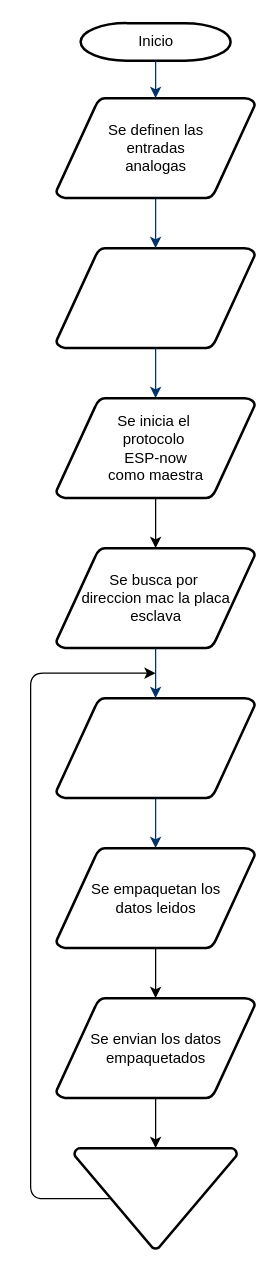
This 278x1280 diagram has some shape labels left out. The box of each missing label's shape, as (x1, y1, x2, y2) in pixels:
Se configuran el rango y la resolucion de las entradas: (54, 246, 256, 349)
Se espera 0.3 seg: (72, 1146, 238, 1249)
Se leen las entradas analogicas definidas: (54, 696, 256, 799)
